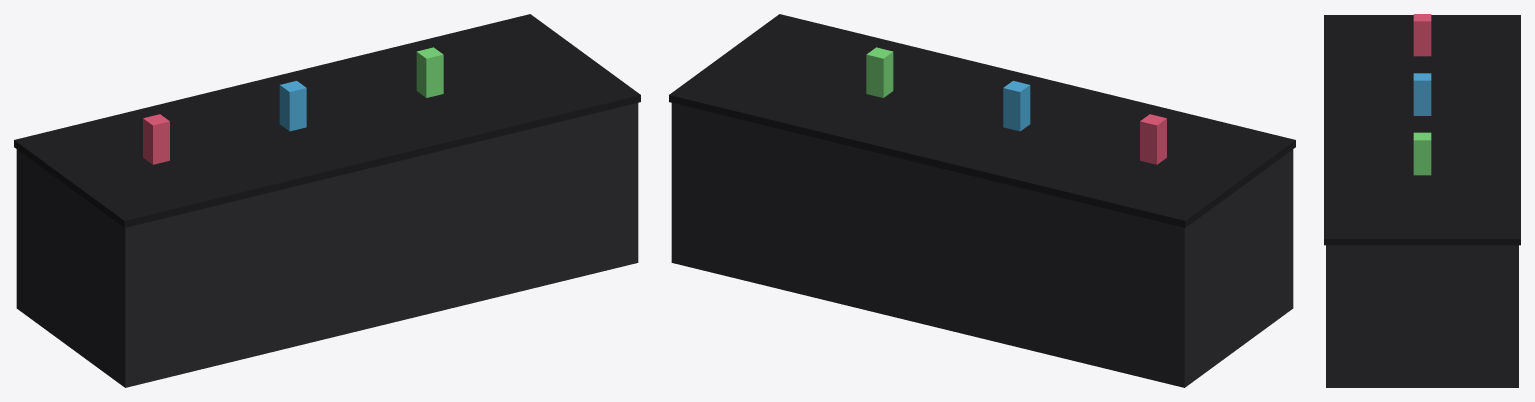
File: high_lab_2.glb
The picture shows the model from 3 angles, left to right: view 1: azimuth 30°, elevation 25°; view 2: azimuth 150°, elevation 25°; view 3: azimuth 270°, elevation 25°; orthographic projection. The views are drawn at different scales.
Visible parts, largest first — view 1: Box1, Box2, Box4, Box5, Box3; view 2: Box1, Box2, Box4, Box5, Box3; view 3: Box2, Box1, Box5, Box4, Box3.
Boxes of the visible parts, x1,y1,x2,y2 form: Box1: (16, 103, 638, 387); Box2: (14, 14, 640, 227); Box4: (279, 81, 306, 131); Box5: (416, 47, 443, 97); Box3: (143, 114, 169, 164); Box1: (671, 103, 1293, 387); Box2: (669, 14, 1295, 227); Box4: (1003, 81, 1030, 131); Box5: (866, 47, 893, 97); Box3: (1140, 114, 1166, 164); Box2: (1324, 15, 1520, 245); Box1: (1326, 245, 1518, 387); Box5: (1413, 132, 1431, 175); Box4: (1413, 73, 1431, 115); Box3: (1413, 14, 1431, 56).
Bounding box in the file's own units: 3.02 × 1.16 × 1.12.
